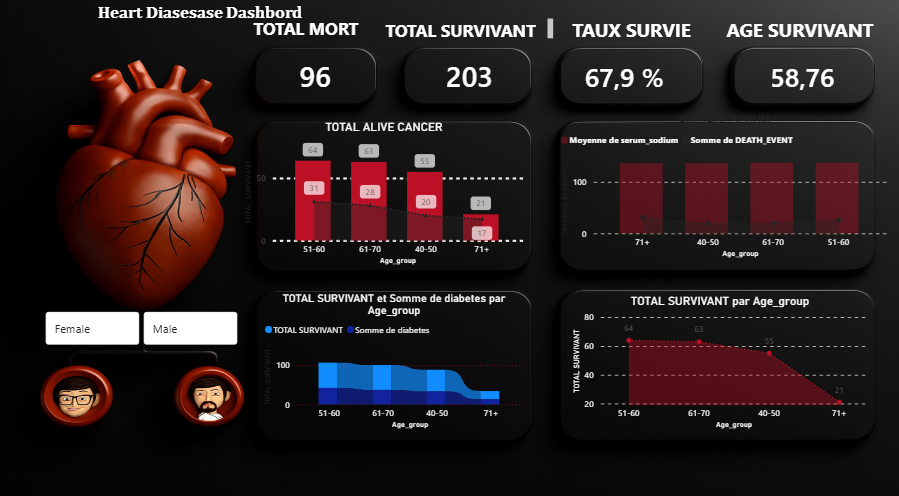

Layout of this report page (visuals, bound fields, positions):
{"tool":"powerbi","page":{"name":"Page 1","canvas":[1280,720],"ordinal":0},"visuals":[{"type":"textbox","box":[10.1,0,556,87.3],"z":0},{"type":"cardVisual","fields":{"Data":["heart_Disease_clinical_records_.Alive_pers"]},"box":[782.4,34,214,150.2],"z":1000},{"type":"cardVisual","fields":{"Data":["heart_Disease_clinical_records_.alive_age"]},"box":[1044.6,34,194.2,150.2],"z":2000},{"type":"cardVisual","fields":{"Data":["heart_Disease_clinical_records_.alive_people"]},"box":[562.7,34,214,148.8],"z":3000},{"type":"cardVisual","fields":{"Data":["heart_Disease_clinical_records_.People_death"]},"box":[357.2,34,188.5,148.8],"z":4000},{"type":"lineClusteredColumnComboChart","title":"TOTAL ALIVE CANCER","fields":{"Category":["heart_Disease_clinical_records_.Age_group"],"Y":["heart_Disease_clinical_records_.alive_people"],"Y2":["Sum(heart_Disease_clinical_records_.cancer)"]},"box":[345.8,172.9,405.4,209.8],"z":5000},{"type":"lineClusteredColumnComboChart","title":"AVERAGE SERUM","fields":{"Category":["heart_Disease_clinical_records_.Age_group"],"Y":["Avg(heart_Disease_clinical_records_.serum_sodium)"],"Y2":["Sum(heart_Disease_clinical_records_.DEATH_EVENT)"]},"box":[793.7,163,473.4,209.8],"z":6000},{"type":"ribbonChart","fields":{"Category":["heart_Disease_clinical_records_.Age_group"],"Y":["heart_Disease_clinical_records_.alive_people","Sum(heart_Disease_clinical_records_.diabetes)"]},"box":[374.2,415.3,377,199.8],"z":7000},{"type":"lineChart","fields":{"Category":["heart_Disease_clinical_records_.Age_group"],"Y":["heart_Disease_clinical_records_.alive_people"]},"box":[810.7,419.5,428,195.6],"z":8000},{"type":"advancedSlicerVisual","fields":{"Values":["heart_Disease_clinical_records_.Gender"]},"box":[63.8,419.5,282,97.8],"z":9000},{"type":"textbox","box":[313.2,21.3,249.4,131.8],"z":10000},{"type":"textbox","box":[527.2,24.1,266.5,39.7],"z":11000},{"type":"textbox","box":[782.4,21.3,233.9,51],"z":12000},{"type":"textbox","box":[996.4,21.3,283.5,59.5],"z":13000}]}

Visuals, with their boxes in screenshot pixels (x1, y1, x2, y2), scaled from the page's 1280x720 canvas onto the 899x496 screenshot:
textbox: bbox(7, 0, 398, 60)
cardVisual - heart_Disease_clinical_records_.Alive_pers: bbox(550, 23, 700, 127)
cardVisual - heart_Disease_clinical_records_.alive_age: bbox(734, 23, 870, 127)
cardVisual - heart_Disease_clinical_records_.alive_people: bbox(395, 23, 546, 126)
cardVisual - heart_Disease_clinical_records_.People_death: bbox(251, 23, 383, 126)
"TOTAL ALIVE CANCER" lineClusteredColumnComboChart: bbox(243, 119, 528, 264)
"AVERAGE SERUM" lineClusteredColumnComboChart: bbox(557, 112, 890, 257)
ribbonChart - heart_Disease_clinical_records_.Age_group x heart_Disease_clinical_records_.alive_people: bbox(263, 286, 528, 424)
lineChart - heart_Disease_clinical_records_.Age_group x heart_Disease_clinical_records_.alive_people: bbox(569, 289, 870, 424)
advancedSlicerVisual - heart_Disease_clinical_records_.Gender: bbox(45, 289, 243, 356)
textbox: bbox(220, 15, 395, 105)
textbox: bbox(370, 17, 557, 44)
textbox: bbox(550, 15, 714, 50)
textbox: bbox(700, 15, 898, 56)
